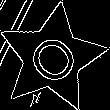O_SE: (19, 25, 85, 91)
